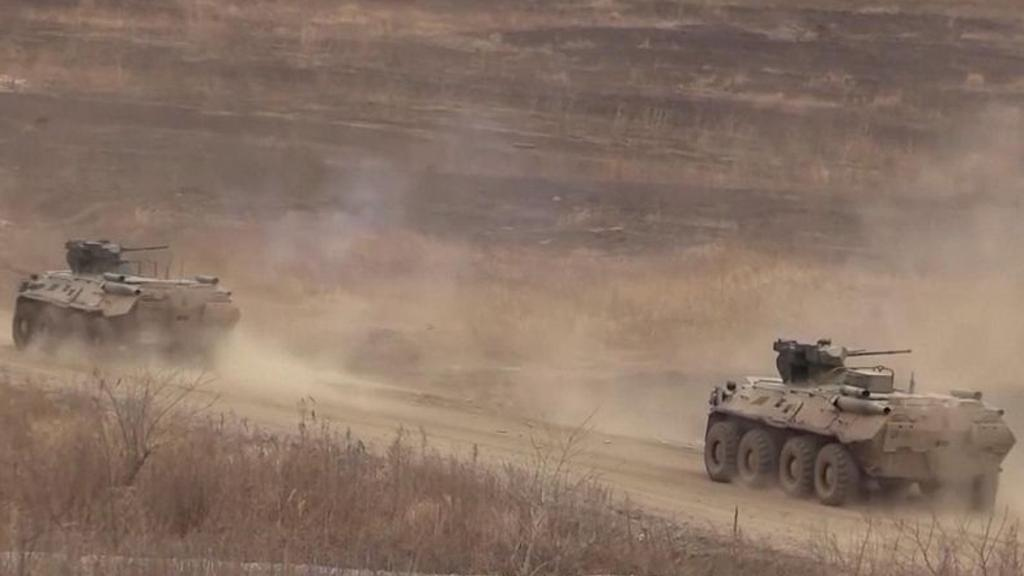APC-IFV: (702, 329, 1011, 518), (10, 232, 246, 385)
